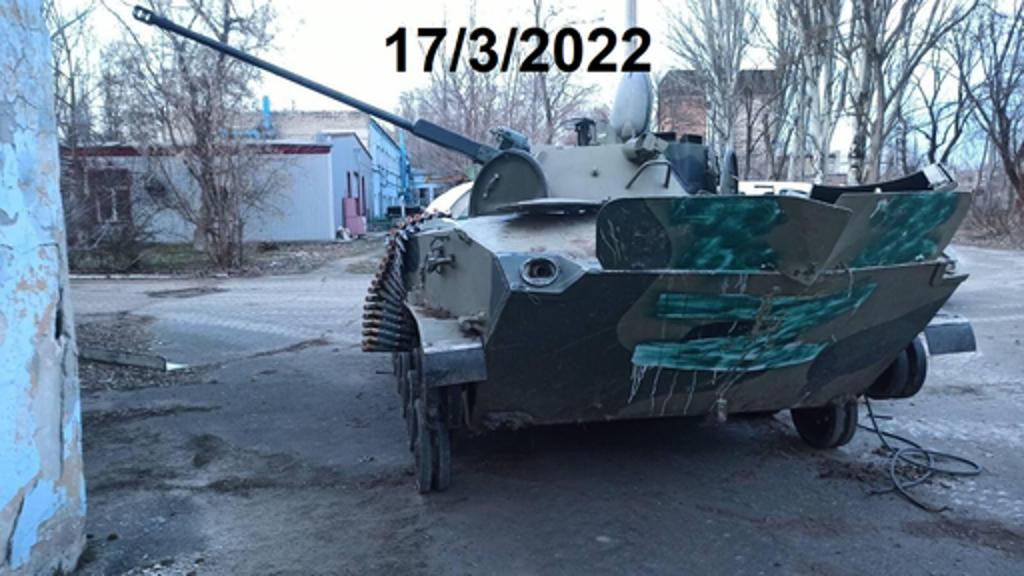APC-IFV: (130, 4, 962, 498)
